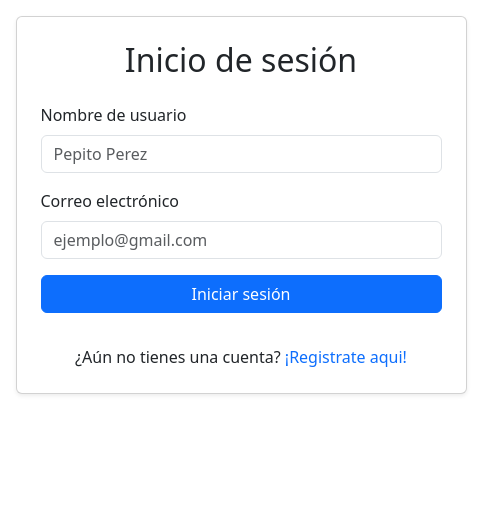
LoginForm › muestra solo el error del correo si el correo es inválido
This screenshot has width=484, height=512.
Type "Pepito" into the field with placeholder "Pepito Perez" at (241, 154), box [40,135,442,173]
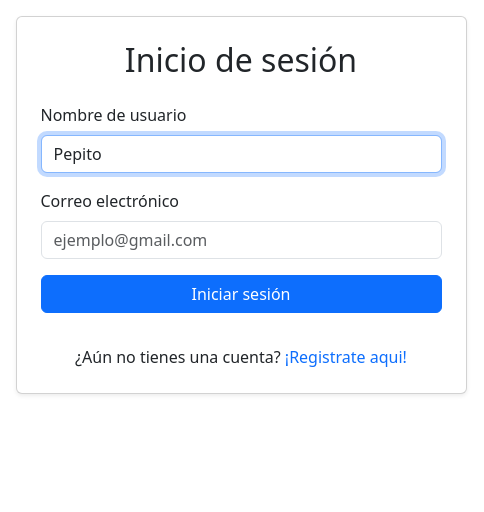
Type "correo-malo" into the field with placeholder "ejemplo@gmail.com" at (241, 240), box [40,221,442,259]
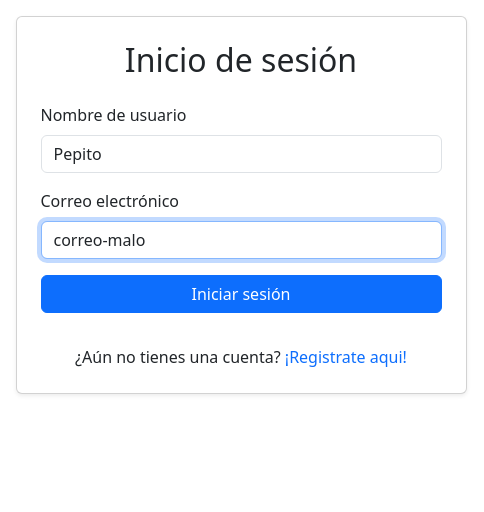
Click the button "Iniciar sesión" at (241, 294), box [40,275,442,313]
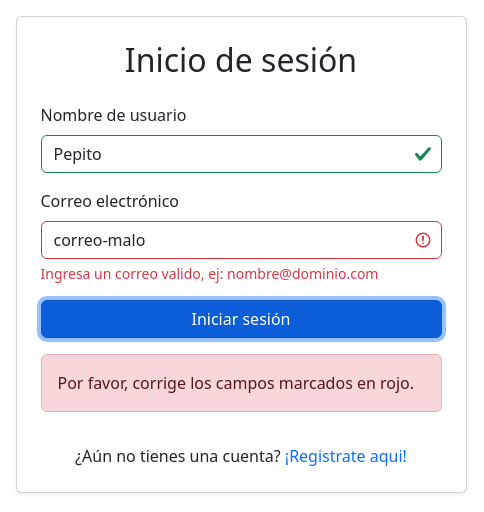
Check: the text "Ingresa un correo valido, ej: nombre@dominio.com" is shown, box [40,264,378,283]
